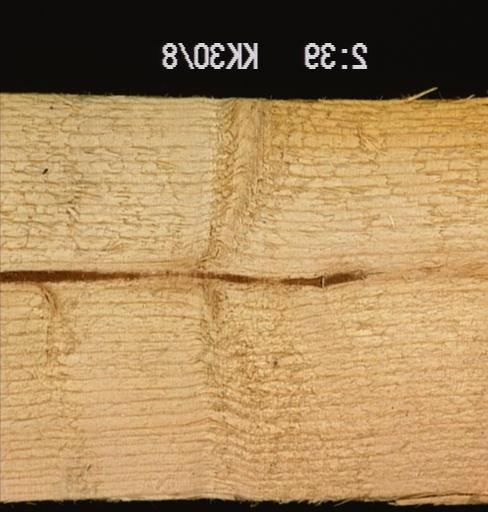split: (2, 257, 419, 286), (385, 484, 486, 499)
